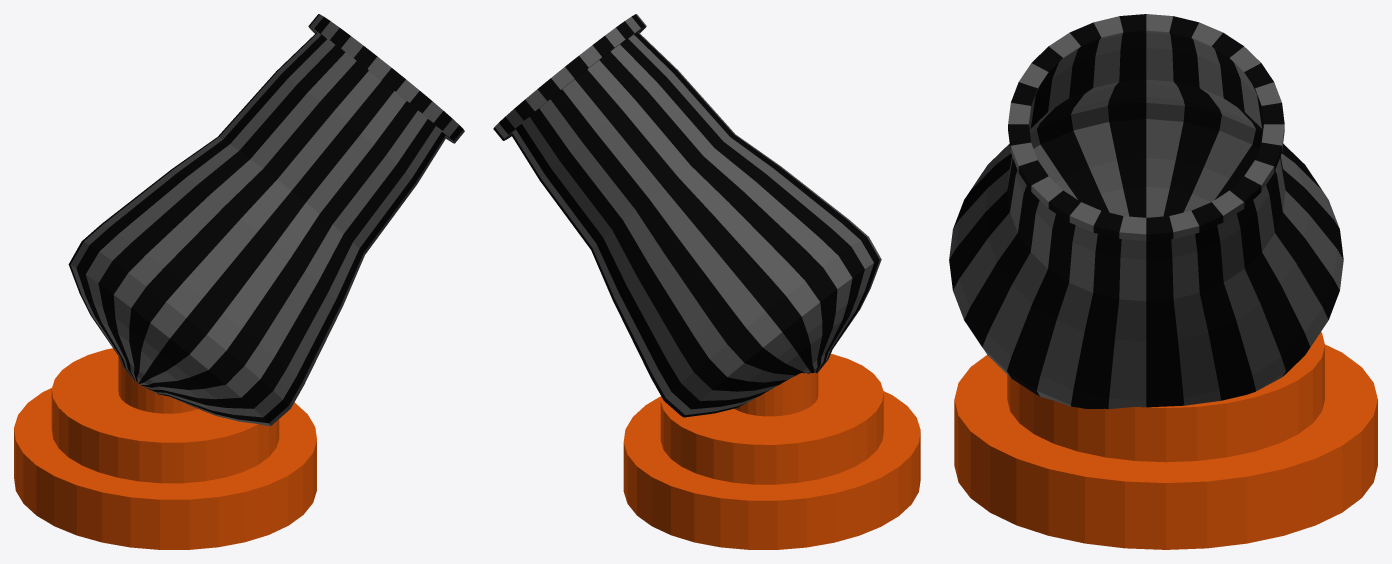
Rendered from Cannons boat 2.fbx.
3 renders of one model, left to right at view 1: azimuth 30°, elevation 25°; view 2: azimuth 150°, elevation 25°; view 3: azimuth 270°, elevation 25°, orthographic. The views are drawn at different scales.
Visible parts, largest first — view 1: Cannpoon, Cannon base; view 2: Cannpoon, Cannon base; view 3: Cannpoon, Cannon base.
Boxes of the visible parts, box(x1,y1,x2,y2) form: Cannpoon: box(68, 14, 464, 426); Cannon base: box(14, 348, 316, 549); Cannpoon: box(493, 14, 881, 417); Cannon base: box(623, 353, 920, 549); Cannpoon: box(949, 14, 1343, 409); Cannon base: box(954, 332, 1377, 549).
Size of the model in its own units: 158 by 159 by 110.
